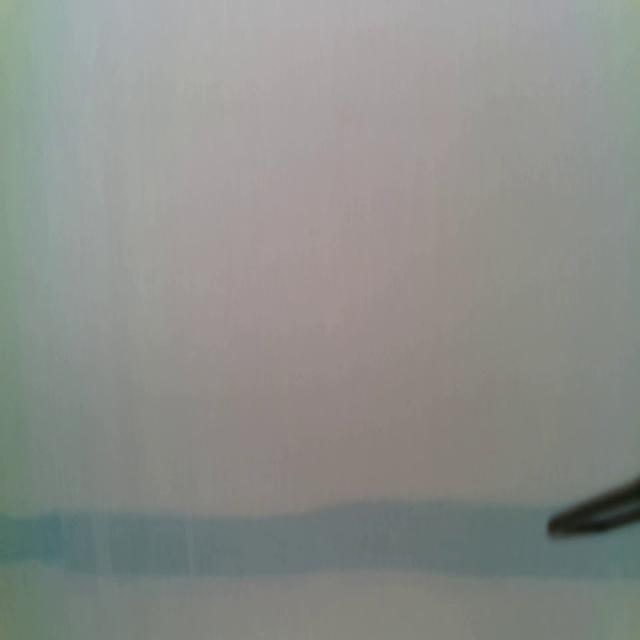color bleeding: (0, 498, 546, 586)
